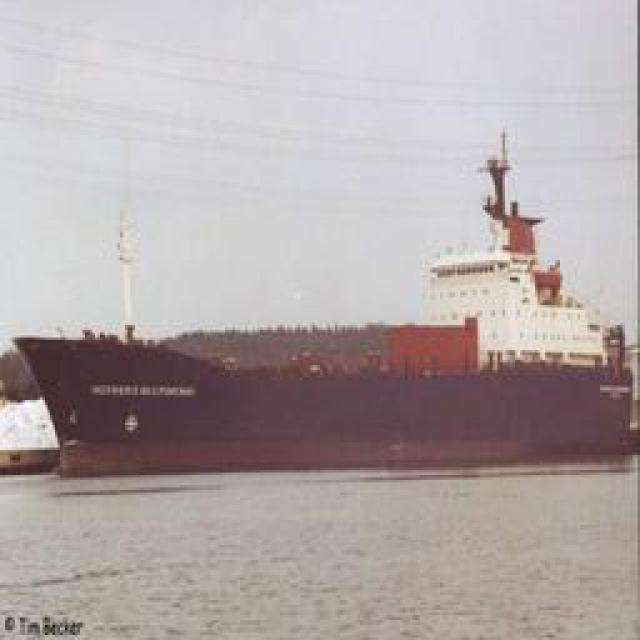Ship: (8, 127, 639, 483)
